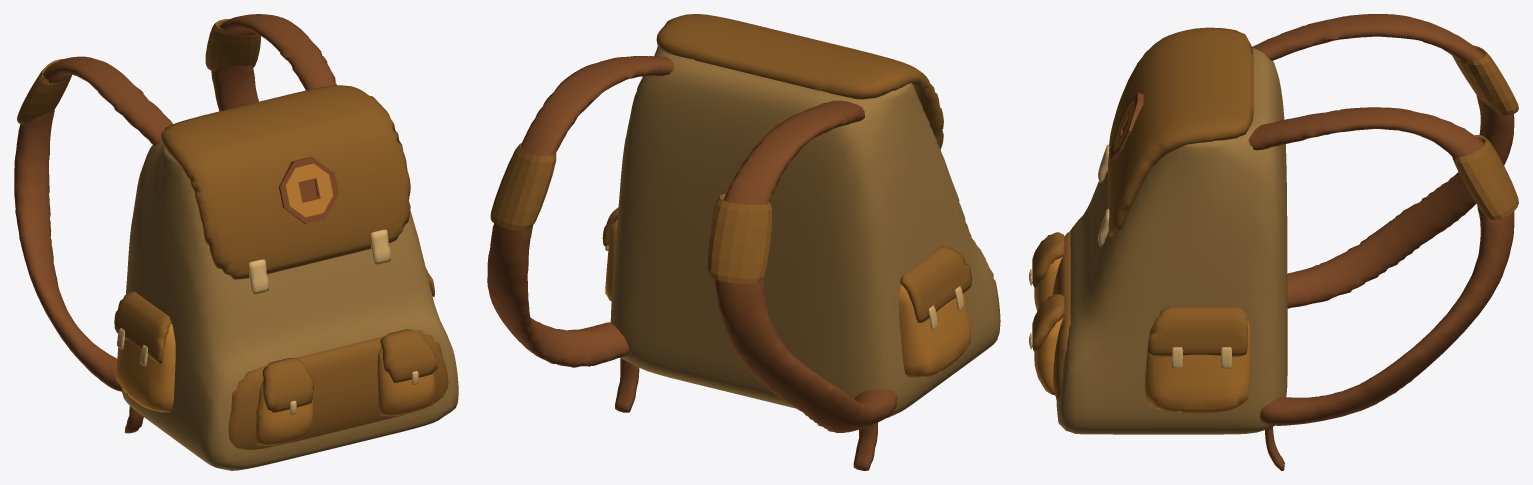
File: BackPack.fbx
3 views of the same model, side by side, from view 1: azimuth 30°, elevation 25°; view 2: azimuth 150°, elevation 25°; view 3: azimuth 270°, elevation 25° (orthographic). The views are drawn at different scales.
Parts seen in each view (by area): view 1: Cylinder.051, Cylinder.075, Cylinder.072; view 2: Cylinder.051, Cylinder.072, Cylinder.075; view 3: Cylinder.051, Cylinder.072, Cylinder.075.
Part boxes in pixels (<box>): Cylinder.051: <box>114,141,458,470</box>; Cylinder.075: <box>161,85,410,294</box>; Cylinder.072: <box>14,14,336,433</box>; Cylinder.051: <box>602,45,1000,418</box>; Cylinder.072: <box>487,56,897,470</box>; Cylinder.075: <box>656,14,943,149</box>; Cylinder.051: <box>1029,48,1287,434</box>; Cylinder.072: <box>1248,14,1518,470</box>; Cylinder.075: <box>1098,27,1253,246</box>.
Bounding box in the file's own units: 181 × 250 × 196.
